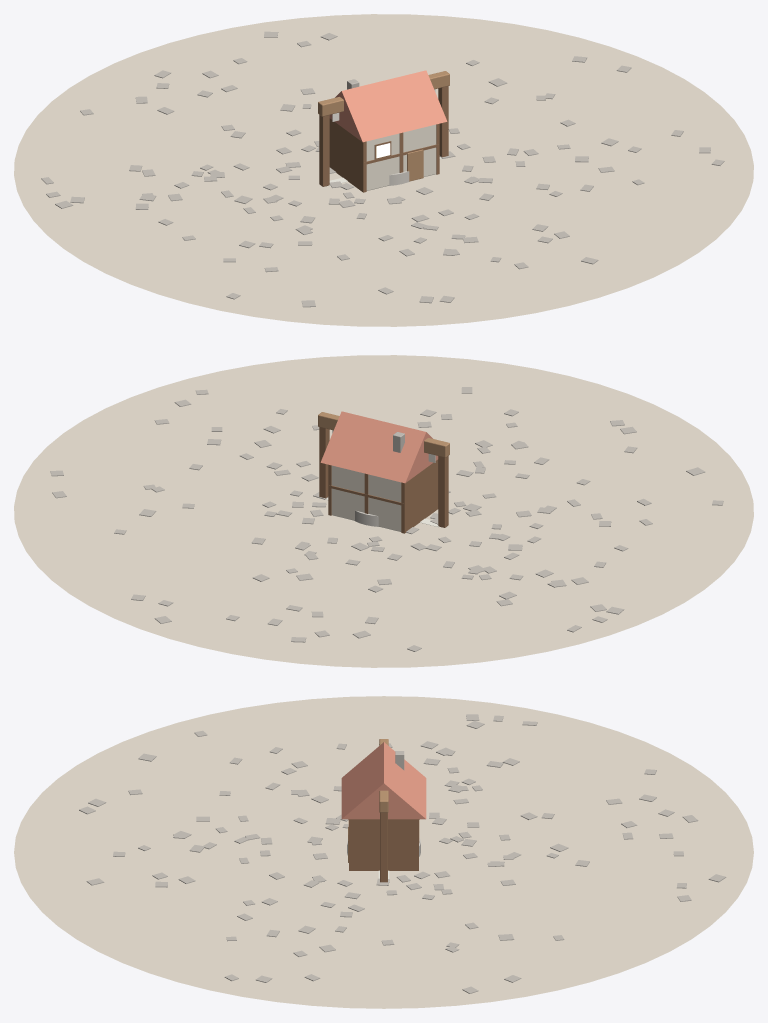
File: town.glb
3 renders of one model, top to bottom at view 1: azimuth 30°, elevation 25°; view 2: azimuth 150°, elevation 25°; view 3: azimuth 270°, elevation 25°, orthographic.
Visible parts, largest first — view 1: Circle, Roof, Walls, Beam, ArchPost, ArchBeam, ArchPost.001; view 2: Circle, Roof, Walls, Beam, ArchPost, ArchBeam, ArchPost.001; view 3: Circle, Roof, Beam.002, ArchPost.001.
Boxes of the visible parts, x1,y1,x2,y2 form: Circle: (14,14,753,326); Roof: (329,70,447,142); Walls: (366,124,436,190); Beam: (329,118,366,192); ArchPost: (319,115,329,186); ArchBeam: (318,71,449,116); ArchPost.001: (438,86,448,157); Circle: (14,355,753,667); Roof: (320,411,438,483); Walls: (331,465,401,531); Beam: (401,459,438,533); ArchPost: (438,456,448,527); ArchBeam: (318,412,449,457); ArchPost.001: (319,427,329,498); Circle: (14,696,753,1008); Roof: (341,742,426,819); Beam.002: (349,819,418,870); ArchPost.001: (380,812,387,882).
Size of what is drawn, in the model's own units: 28 by 3.93 by 28.
